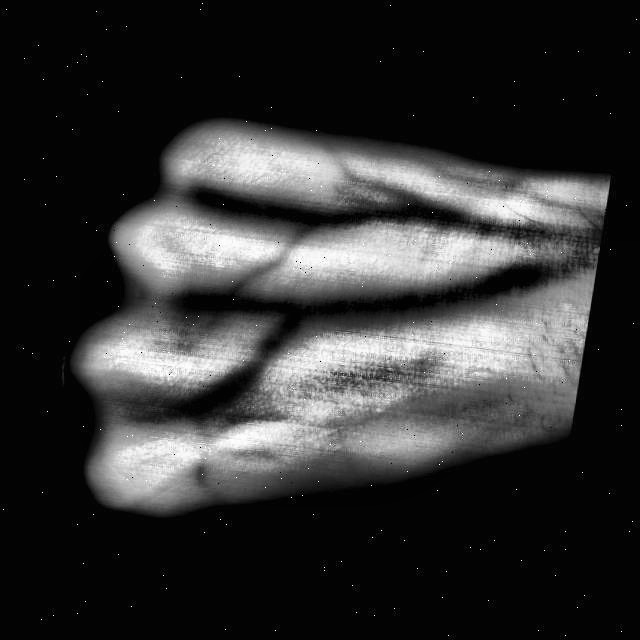Vein: (313, 265, 510, 324), (367, 196, 554, 253)
